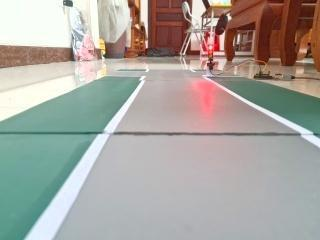red: (203, 41, 221, 71)
